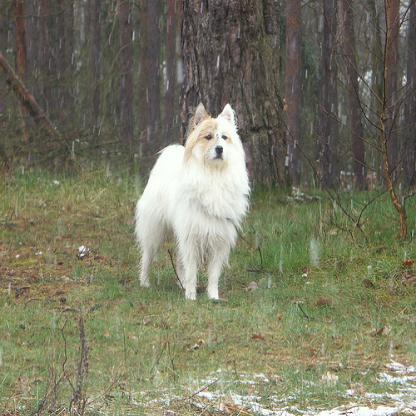dog: (134, 103, 251, 301)
